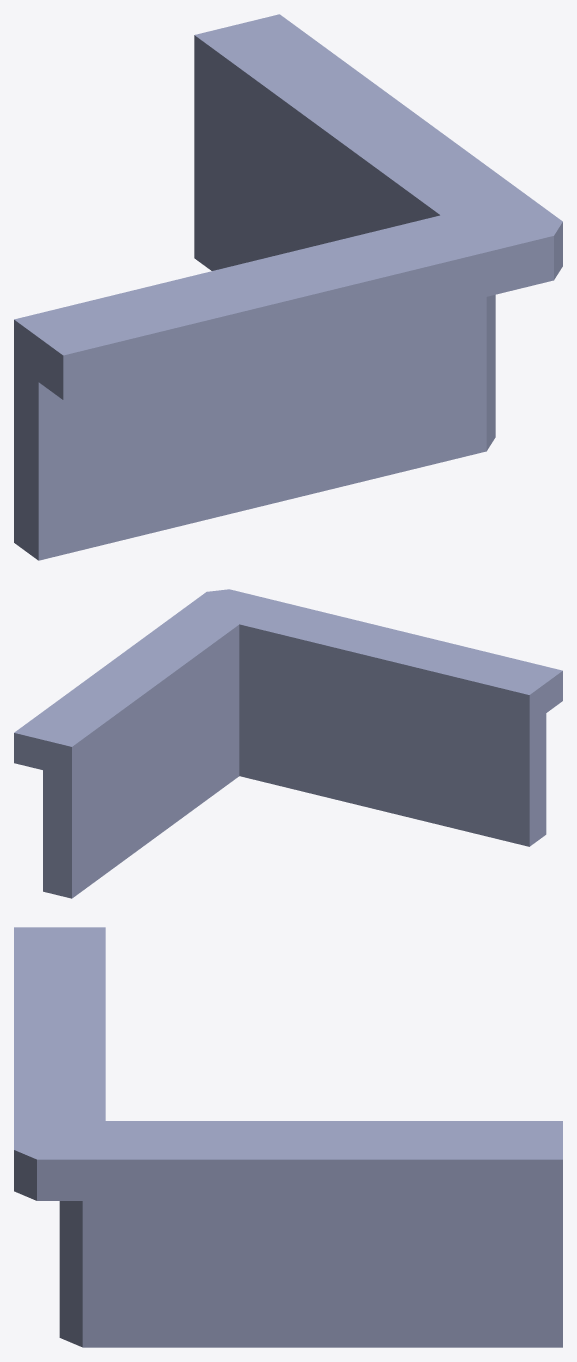
File: border-high-corner-small.obj
The picture shows the model from 3 angles, top to bottom: view 1: azimuth 30°, elevation 25°; view 2: azimuth 150°, elevation 25°; view 3: azimuth 270°, elevation 25°; orthographic projection. The views are drawn at different scales.
Size of the model in its own units: 1.2 by 0.5 by 1.2.
